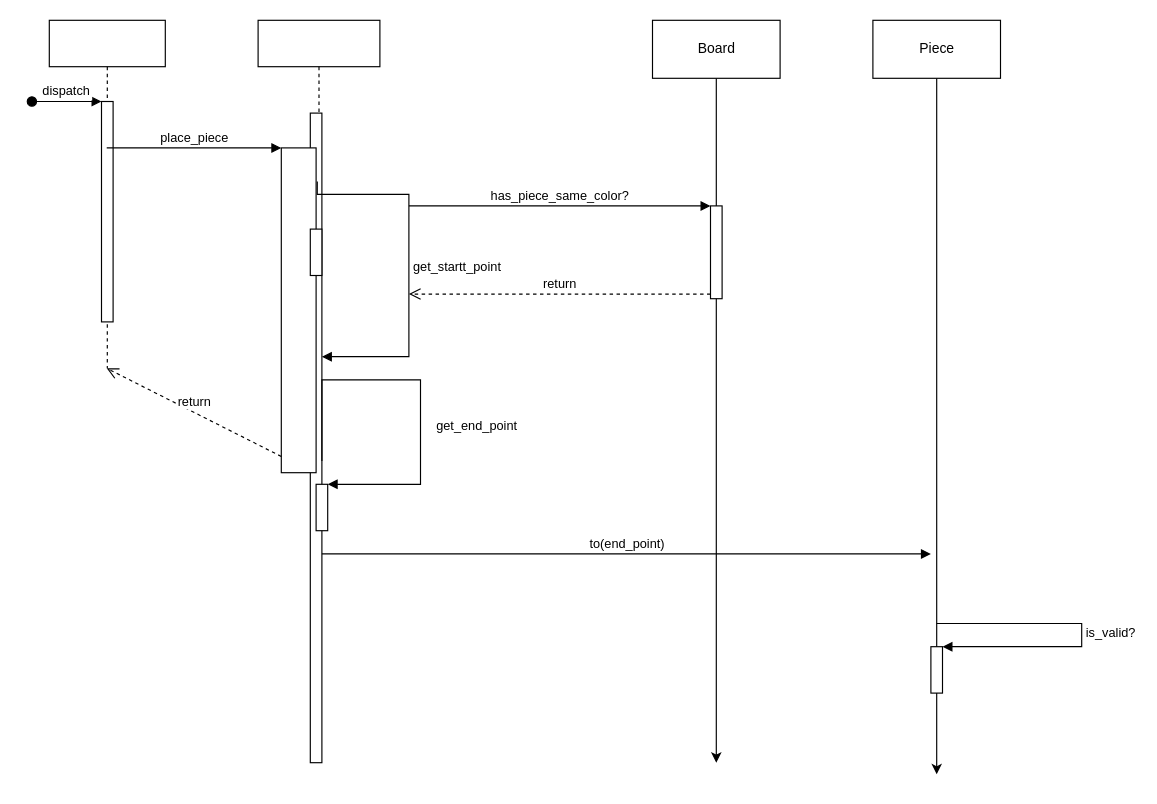
This 1157x804 diagram has some shape labels left out. The box of each missing label's shape, as (x1, y1, x2, y2) in pixels:
Game: (48, 19, 165, 368)
Player: (257, 19, 380, 763)
